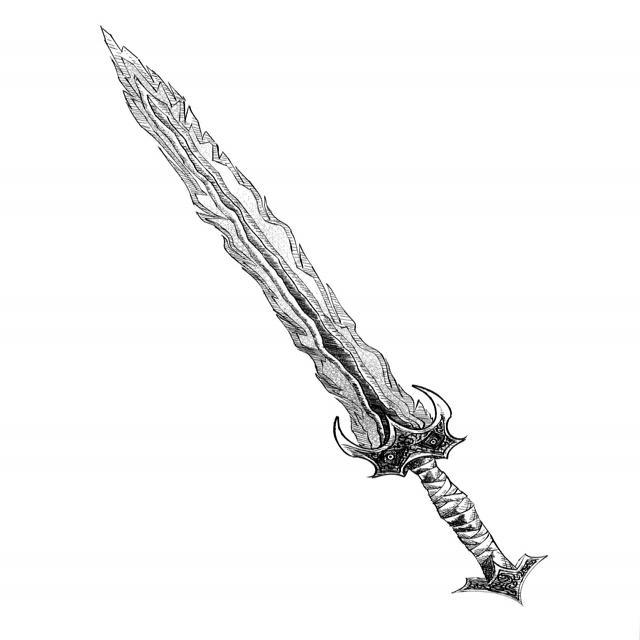sword: (98, 24, 549, 609)
